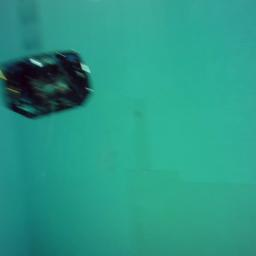Side: (0, 50, 94, 120)
